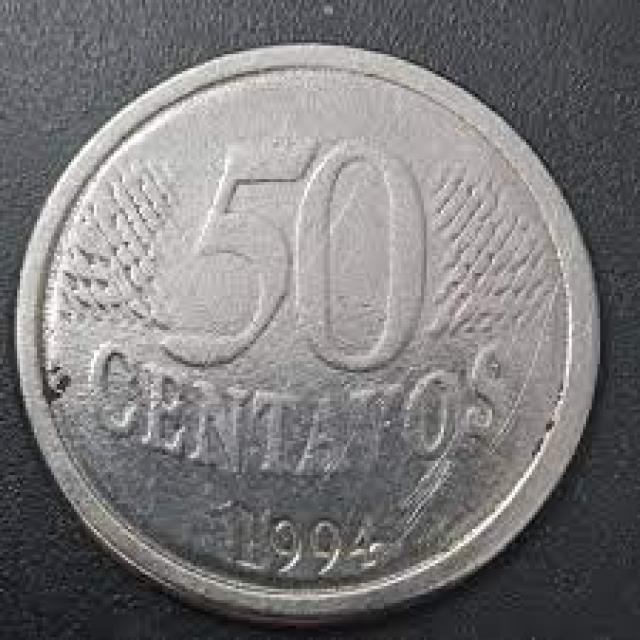50 cent: (20, 40, 603, 618)
